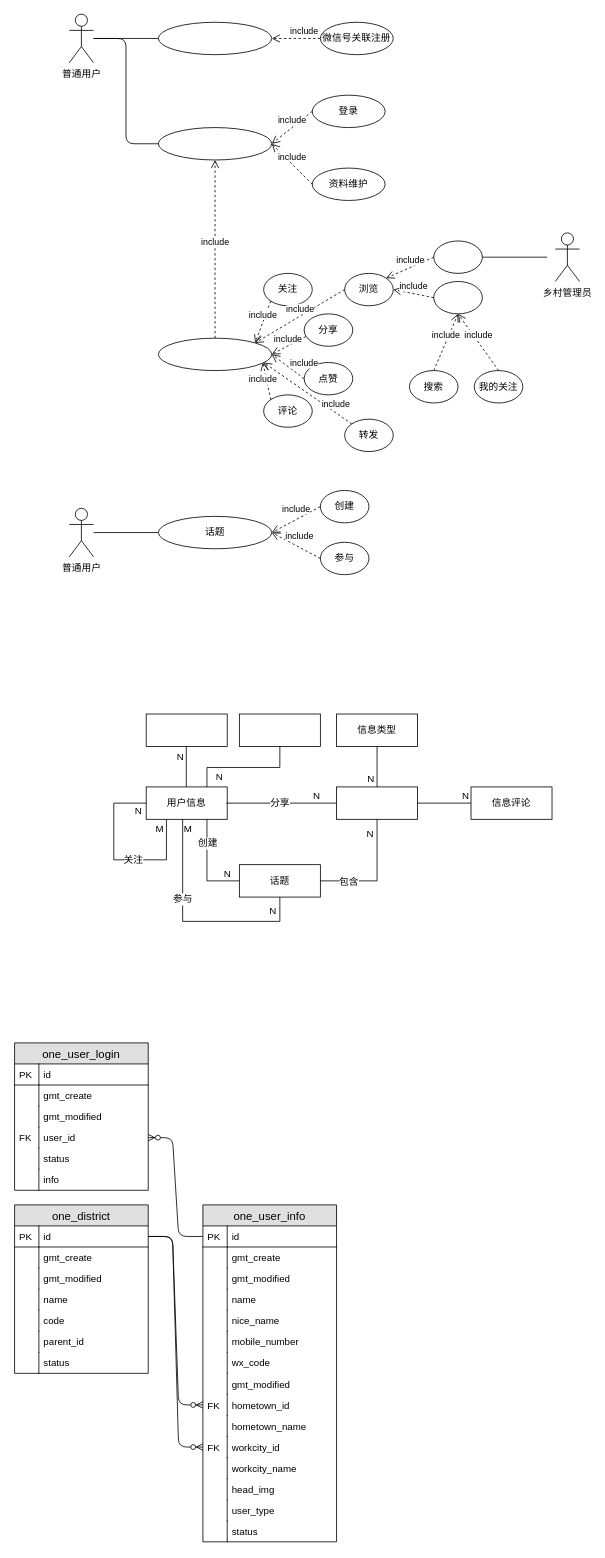
Image size: 605x1558. Some labels were removed from this diagram. Each missing label, with the centre of its shape:
"信息主题" goes at (x=377, y=802).
"信息互动" goes at (x=215, y=354).
"同乡" goes at (x=457, y=297).
"家乡" goes at (x=457, y=256).
"用户注册" goes at (x=215, y=38).
"用户登录" goes at (x=215, y=143).
"登录日志" goes at (x=186, y=729).
"行政地域" goes at (x=279, y=729).
